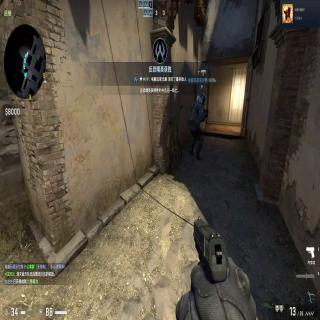CT-Body: (187, 91, 209, 162)
CT-Head: (199, 92, 206, 105)
